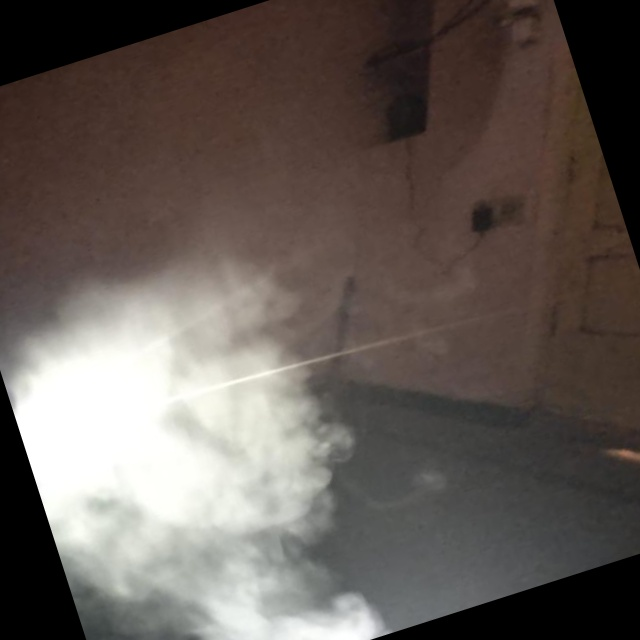smoke: (0, 245, 346, 640)
